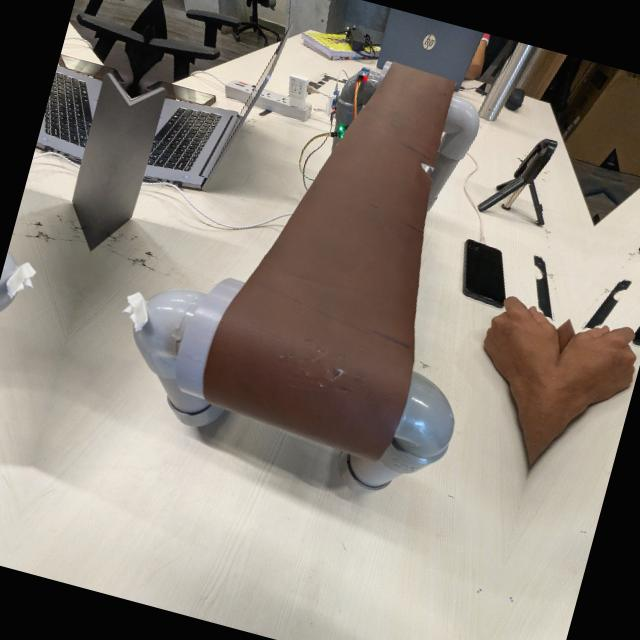belt_crack: (262, 330, 374, 407)
belt_tear: (407, 149, 440, 182)
